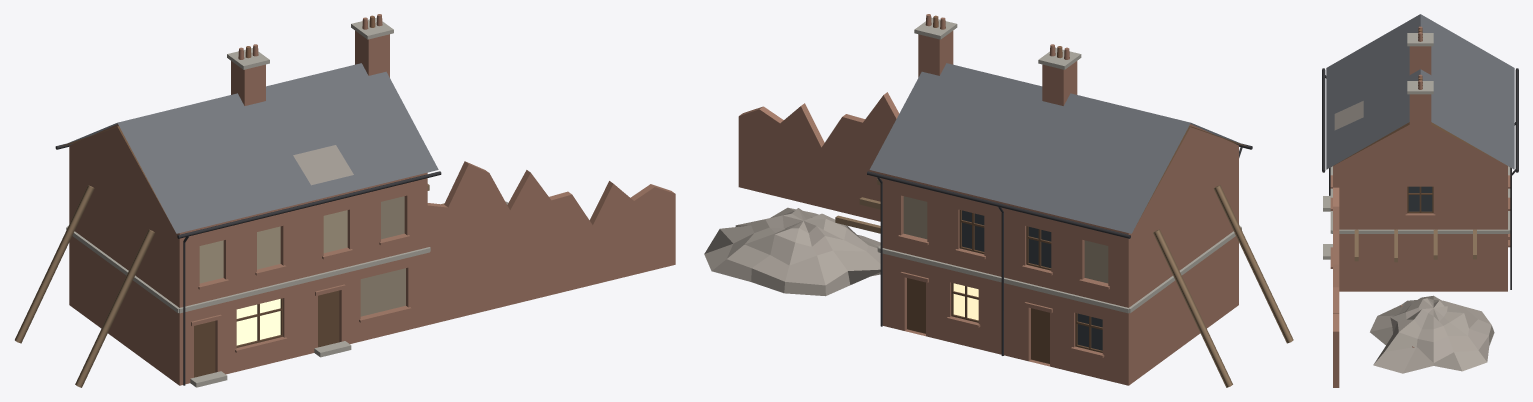
The model's file is prole_ruin.glb.
The picture shows the model from 3 angles, left to right: view 1: azimuth 30°, elevation 25°; view 2: azimuth 150°, elevation 25°; view 3: azimuth 270°, elevation 25°; orthographic projection. The views are drawn at different scales.
Visible parts, largest first — view 1: prole_ruin; view 2: prole_ruin; view 3: prole_ruin.
Boxes of the visible parts, left/top/right/bottom form: prole_ruin: left=15, top=14, right=675, bottom=387; prole_ruin: left=704, top=14, right=1293, bottom=387; prole_ruin: left=1322, top=14, right=1518, bottom=387.
Size of the model in its own units: 24.09 by 10.87 by 8.98.
